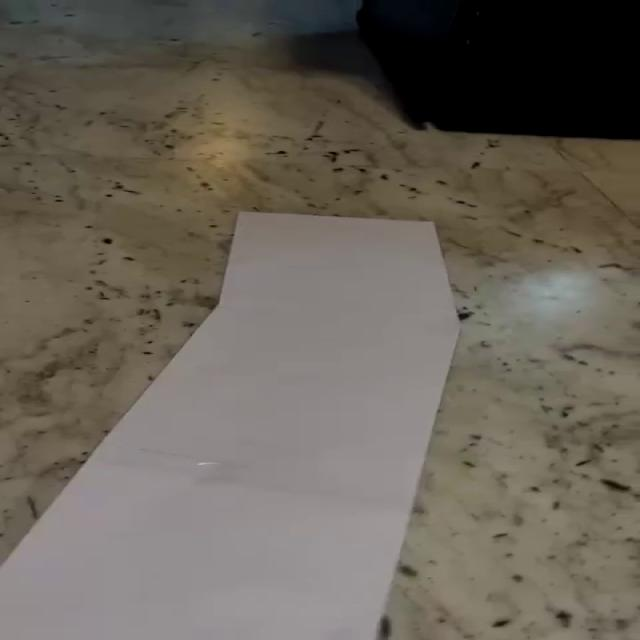road: (2, 212, 460, 640)
